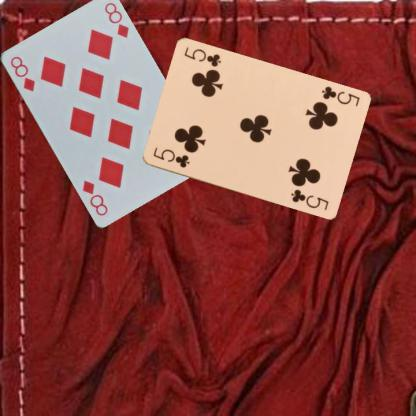5c: (318, 84, 361, 108), (150, 145, 191, 169)
8d: (7, 53, 36, 93)
